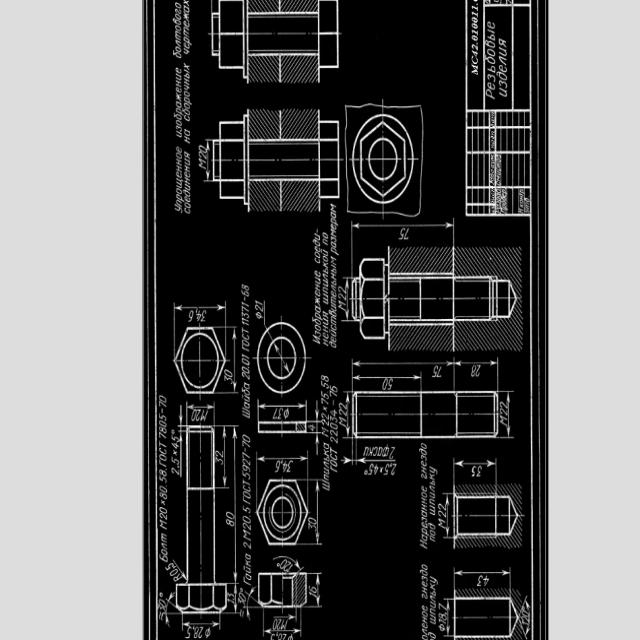marking_line: (350, 220, 455, 246), (228, 425, 239, 584), (452, 356, 499, 391), (351, 371, 423, 391), (256, 452, 309, 479), (173, 302, 227, 327), (453, 567, 511, 590), (351, 359, 455, 371), (453, 457, 498, 484), (256, 399, 307, 421), (355, 439, 397, 465), (309, 479, 324, 545), (216, 425, 230, 489), (226, 326, 239, 394), (307, 400, 321, 455), (499, 391, 514, 439), (186, 401, 215, 425), (182, 614, 221, 631), (263, 622, 302, 638), (343, 390, 355, 438), (272, 555, 305, 572), (307, 572, 322, 609), (442, 491, 453, 540), (519, 595, 530, 639), (245, 585, 258, 621), (274, 344, 290, 373), (342, 276, 352, 322), (443, 598, 454, 637), (227, 583, 240, 614), (178, 429, 186, 479), (271, 608, 297, 622), (166, 591, 176, 627), (341, 439, 355, 464), (204, 139, 212, 182), (174, 560, 186, 580), (178, 405, 186, 427)
numeric: (198, 159, 207, 171), (321, 479, 330, 491), (236, 597, 246, 607), (243, 530, 252, 541), (187, 309, 194, 322), (201, 409, 208, 422), (185, 626, 192, 639), (383, 463, 390, 476), (224, 369, 234, 378), (241, 372, 251, 381), (242, 470, 251, 480), (242, 433, 251, 443), (165, 562, 174, 572), (283, 561, 292, 571), (429, 575, 439, 584), (242, 408, 250, 419), (339, 416, 347, 427), (338, 301, 346, 312), (287, 460, 294, 472), (432, 365, 439, 377), (438, 518, 445, 530), (198, 145, 207, 154), (159, 394, 168, 403), (171, 467, 180, 476), (159, 554, 168, 563), (173, 50, 182, 59), (430, 466, 439, 475), (241, 344, 251, 352), (159, 520, 167, 530), (183, 27, 191, 37), (313, 335, 321, 345), (201, 309, 207, 322), (274, 460, 280, 473), (399, 227, 405, 240), (500, 415, 507, 426), (224, 376, 233, 384), (241, 290, 250, 298), (254, 304, 263, 312), (242, 339, 251, 347), (158, 400, 167, 408), (172, 457, 180, 466), (215, 450, 224, 458), (278, 408, 284, 420), (241, 366, 250, 374), (242, 478, 251, 486), (242, 458, 251, 466), (243, 497, 251, 506), (243, 505, 251, 514), (243, 522, 251, 531), (243, 565, 251, 574), (244, 577, 252, 586), (198, 627, 204, 639), (242, 388, 251, 396), (243, 381, 251, 390), (308, 585, 317, 593), (280, 560, 288, 569), (173, 18, 182, 26), (183, 11, 191, 20), (174, 204, 182, 213), (330, 458, 338, 467), (329, 447, 338, 455), (330, 422, 339, 430), (388, 378, 394, 390), (391, 464, 397, 476), (368, 463, 374, 475), (419, 540, 427, 549), (438, 603, 447, 611), (331, 248, 339, 257), (254, 299, 264, 306), (158, 414, 168, 421), (159, 598, 166, 608), (308, 592, 318, 599), (321, 375, 331, 382), (322, 427, 329, 437), (429, 506, 436, 516), (277, 618, 283, 629), (477, 575, 483, 586), (323, 294, 329, 305), (382, 378, 387, 391), (476, 364, 481, 377), (215, 457, 223, 465), (308, 424, 316, 432), (160, 506, 168, 514), (243, 491, 251, 499), (243, 516, 251, 524), (226, 519, 234, 527), (226, 512, 234, 520), (170, 569, 178, 577), (227, 591, 235, 599), (500, 401, 508, 409), (438, 510, 446, 518), (438, 612, 446, 620), (198, 152, 207, 159), (242, 284, 251, 291), (159, 440, 166, 449), (242, 465, 251, 472), (159, 493, 168, 500), (239, 592, 246, 601), (308, 517, 317, 524), (182, 108, 191, 115), (174, 113, 183, 120), (183, 150, 190, 159), (321, 419, 330, 426), (419, 448, 428, 455), (428, 632, 437, 639), (338, 293, 347, 300), (330, 203, 337, 212), (196, 310, 201, 322), (191, 409, 196, 421), (196, 409, 201, 421), (273, 407, 278, 419), (161, 533, 167, 543), (194, 626, 199, 638), (282, 460, 287, 472), (272, 619, 277, 631), (176, 30, 182, 40), (437, 366, 442, 378), (471, 365, 476, 377), (477, 465, 482, 477), (242, 334, 250, 341), (242, 327, 250, 334), (159, 455, 167, 462), (159, 427, 167, 434), (159, 421, 167, 428), (242, 359, 250, 366), (242, 452, 250, 459), (159, 476, 167, 483), (160, 486, 167, 494), (243, 542, 251, 549), (174, 573, 181, 581), (227, 598, 235, 605), (244, 401, 251, 409), (308, 524, 316, 531), (175, 39, 182, 47), (175, 79, 182, 87), (183, 77, 190, 85), (184, 136, 191, 144), (184, 158, 191, 166), (323, 448, 330, 456), (321, 381, 329, 388), (321, 392, 329, 399), (339, 410, 347, 417), (428, 523, 436, 530), (438, 504, 446, 511), (329, 341, 337, 348), (312, 317, 320, 324), (322, 249, 329, 257), (330, 296, 337, 304), (374, 464, 379, 475), (484, 575, 489, 586), (471, 465, 476, 476), (404, 228, 409, 239), (241, 312, 250, 318), (242, 395, 251, 401), (176, 93, 182, 102), (330, 437, 339, 443), (421, 465, 427, 474), (419, 571, 428, 577), (430, 615, 436, 624), (315, 296, 321, 305), (242, 301, 249, 308), (159, 461, 166, 468), (159, 448, 166, 455), (159, 432, 166, 439), (160, 470, 167, 477), (158, 604, 165, 611), (175, 13, 182, 20), (175, 24, 182, 31), (184, 90, 191, 97), (183, 84, 190, 91), (183, 63, 190, 70), (183, 5, 190, 12), (184, 20, 191, 27), (184, 129, 191, 136), (176, 146, 183, 153), (185, 207, 192, 214), (184, 195, 191, 202), (323, 467, 330, 474), (330, 466, 337, 473), (330, 391, 337, 398), (330, 385, 337, 392), (500, 408, 507, 415), (429, 486, 436, 493), (421, 581, 428, 588), (322, 332, 329, 339), (314, 324, 321, 331), (315, 277, 322, 284), (314, 257, 321, 264), (322, 273, 329, 280), (322, 280, 329, 287), (322, 311, 329, 318), (171, 443, 179, 449), (171, 436, 179, 442), (243, 442, 251, 448), (160, 513, 168, 519), (243, 486, 251, 492), (175, 178, 183, 184), (183, 189, 191, 195), (321, 413, 329, 419), (330, 430, 338, 436), (330, 410, 338, 416), (339, 403, 347, 409), (421, 509, 427, 517), (439, 618, 447, 624), (339, 287, 347, 293), (314, 233, 320, 241), (329, 330, 337, 336), (242, 354, 251, 359), (287, 563, 292, 572), (246, 553, 252, 560), (246, 561, 252, 568), (246, 573, 252, 580), (161, 549, 168, 555), (162, 543, 168, 550), (175, 2, 182, 8), (175, 45, 181, 52), (175, 73, 181, 80), (175, 67, 182, 73), (184, 102, 191, 108), (184, 97, 191, 103), (183, 73, 190, 79), (183, 49, 190, 55), (184, 36, 191, 42), (184, 115, 191, 121), (176, 194, 183, 200), (176, 172, 182, 179), (176, 159, 182, 166), (184, 172, 191, 178), (185, 165, 192, 171), (323, 461, 329, 468), (323, 456, 330, 462), (321, 398, 328, 404), (421, 455, 428, 461), (420, 443, 427, 449), (429, 499, 436, 505), (422, 485, 428, 492), (430, 530, 437, 536), (422, 527, 428, 534), (421, 564, 428, 570), (430, 608, 436, 615), (430, 602, 436, 609), (429, 584, 436, 590), (422, 616, 428, 623), (421, 611, 428, 617), (421, 604, 428, 610), (421, 593, 428, 599), (315, 306, 321, 313), (314, 291, 321, 297), (313, 239, 320, 245), (322, 238, 328, 245), (322, 260, 328, 267), (322, 267, 329, 273), (322, 287, 329, 293), (323, 319, 329, 326), (330, 212, 337, 218), (331, 224, 338, 230), (330, 230, 337, 236), (330, 256, 337, 262), (331, 305, 338, 311), (323, 338, 328, 346), (241, 322, 250, 326), (241, 308, 250, 312), (175, 8, 181, 14), (176, 87, 182, 93), (184, 0, 190, 6), (184, 43, 190, 49), (176, 131, 182, 137), (176, 126, 182, 132), (176, 188, 182, 194), (176, 153, 182, 159), (185, 202, 191, 208), (421, 473, 427, 479), (421, 461, 427, 467), (429, 492, 435, 498), (429, 473, 435, 479), (421, 498, 427, 504), (421, 491, 427, 497), (430, 536, 436, 542), (421, 522, 427, 528), (422, 629, 428, 635), (315, 330, 321, 336), (315, 284, 321, 290), (315, 271, 321, 277), (315, 252, 321, 258), (314, 246, 320, 252), (322, 232, 328, 238), (322, 256, 328, 262), (331, 237, 337, 243), (331, 274, 337, 280), (277, 633, 282, 640), (176, 166, 183, 171), (185, 176, 190, 183), (330, 455, 337, 460), (331, 417, 338, 422), (421, 504, 428, 509), (422, 533, 427, 540), (421, 576, 428, 581), (421, 635, 428, 640), (315, 312, 322, 317), (323, 325, 328, 332), (331, 219, 338, 224), (330, 269, 337, 274), (330, 336, 337, 341), (330, 324, 337, 329), (330, 291, 337, 296), (184, 69, 190, 74), (176, 108, 182, 113), (176, 102, 181, 108), (176, 121, 182, 126), (185, 184, 191, 189), (324, 475, 330, 480), (323, 443, 329, 448), (422, 587, 428, 592), (430, 596, 436, 601), (430, 590, 436, 595), (422, 624, 428, 629), (331, 242, 337, 247), (331, 316, 337, 321), (331, 284, 336, 290), (242, 318, 249, 322), (283, 633, 287, 640), (176, 184, 183, 188), (429, 480, 436, 484), (330, 320, 337, 324), (422, 517, 427, 522), (331, 263, 336, 268), (331, 311, 336, 316), (176, 200, 182, 204), (331, 281, 337, 285)
special_symbol: (284, 407, 291, 420), (206, 627, 212, 639), (255, 311, 263, 319), (438, 624, 446, 632), (269, 633, 275, 640), (288, 634, 295, 640), (159, 611, 163, 621), (240, 609, 244, 618), (322, 407, 328, 412), (161, 501, 166, 506), (364, 470, 368, 476), (160, 591, 163, 598), (380, 466, 383, 473), (332, 399, 335, 406), (277, 562, 281, 567), (171, 429, 174, 435), (244, 446, 247, 452), (390, 462, 393, 468), (240, 587, 243, 592), (280, 459, 283, 464), (328, 310, 331, 315), (320, 248, 322, 254), (316, 228, 318, 233), (190, 42, 192, 46), (193, 626, 194, 630), (321, 319, 322, 322)
